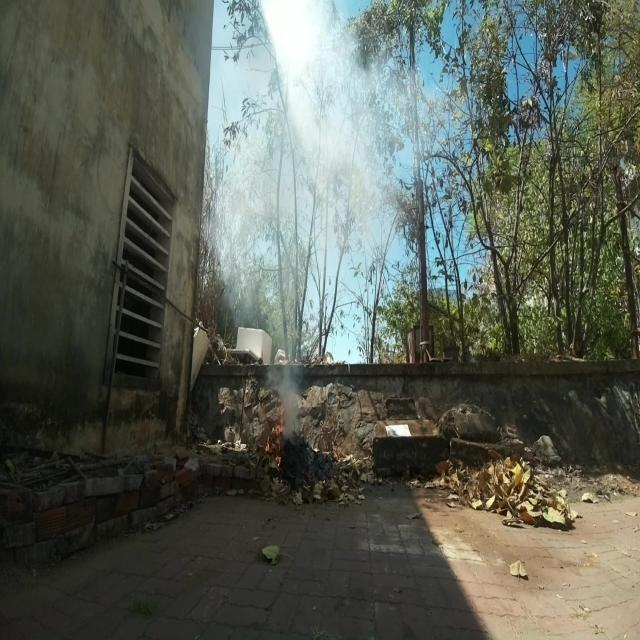Fire: (262, 392, 286, 472)
Smoke: (200, 0, 420, 443)
